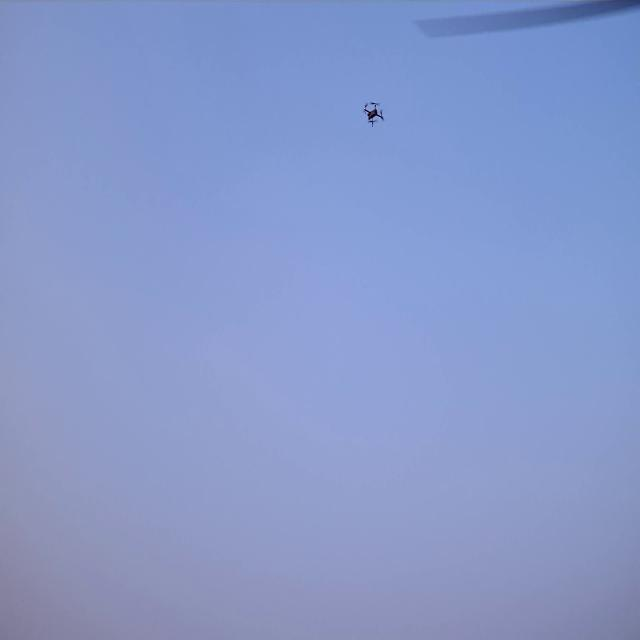UAV: (362, 98, 385, 130)
